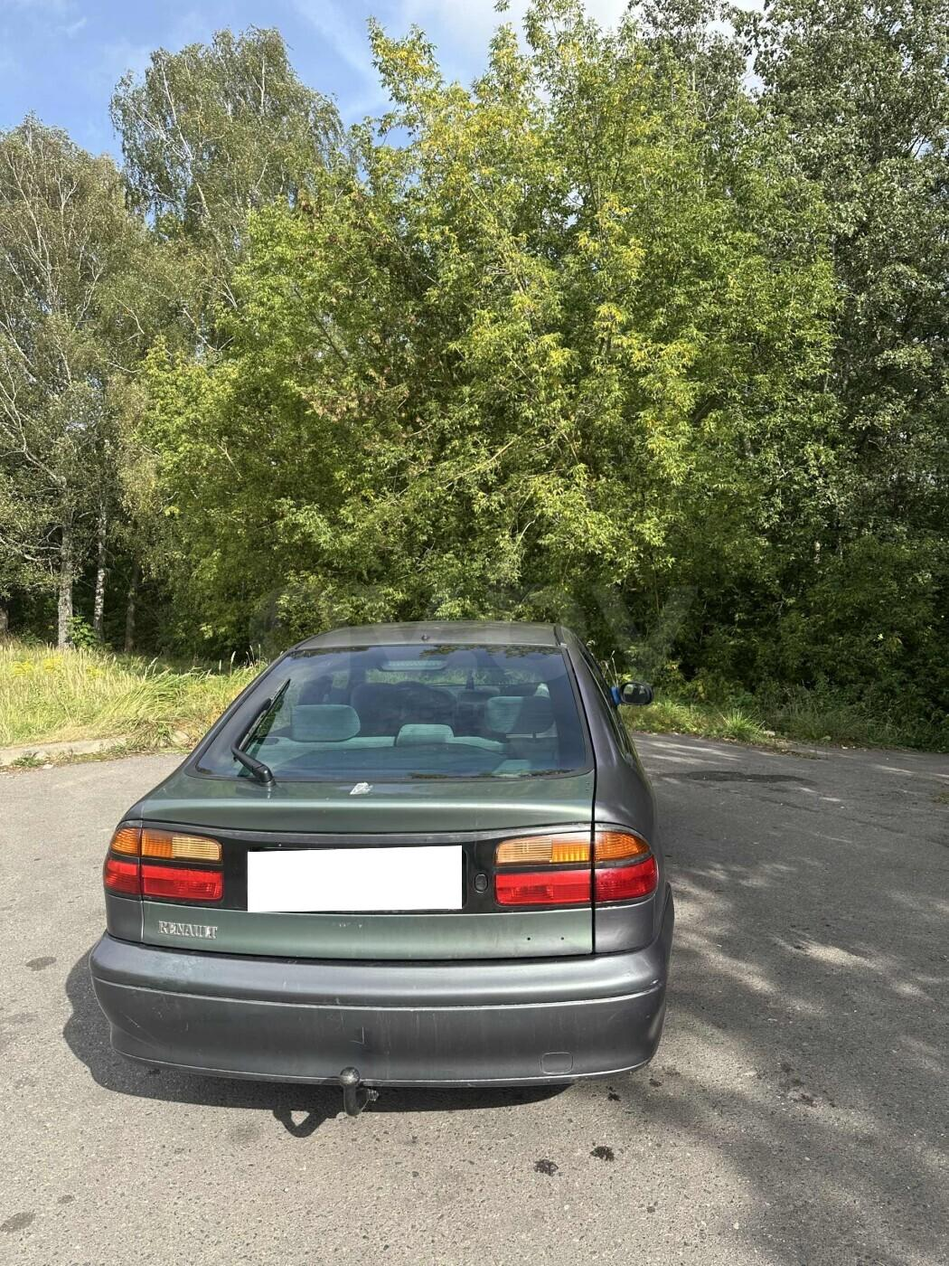Laguna_1998-2001: (89, 617, 696, 1141)
